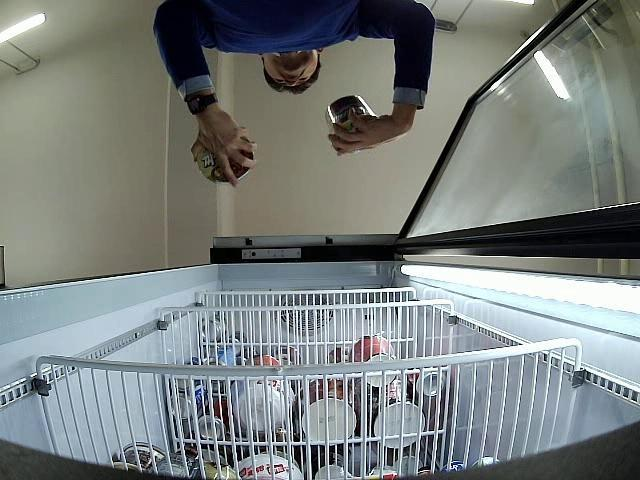03_chapagetti_L: (198, 126, 255, 184), (325, 95, 377, 154)
